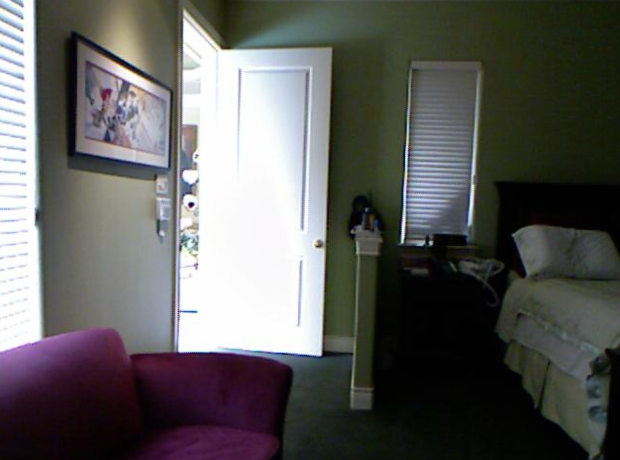couch: (0, 328, 279, 458)
door: (214, 45, 322, 354)
window: (409, 68, 467, 235)
